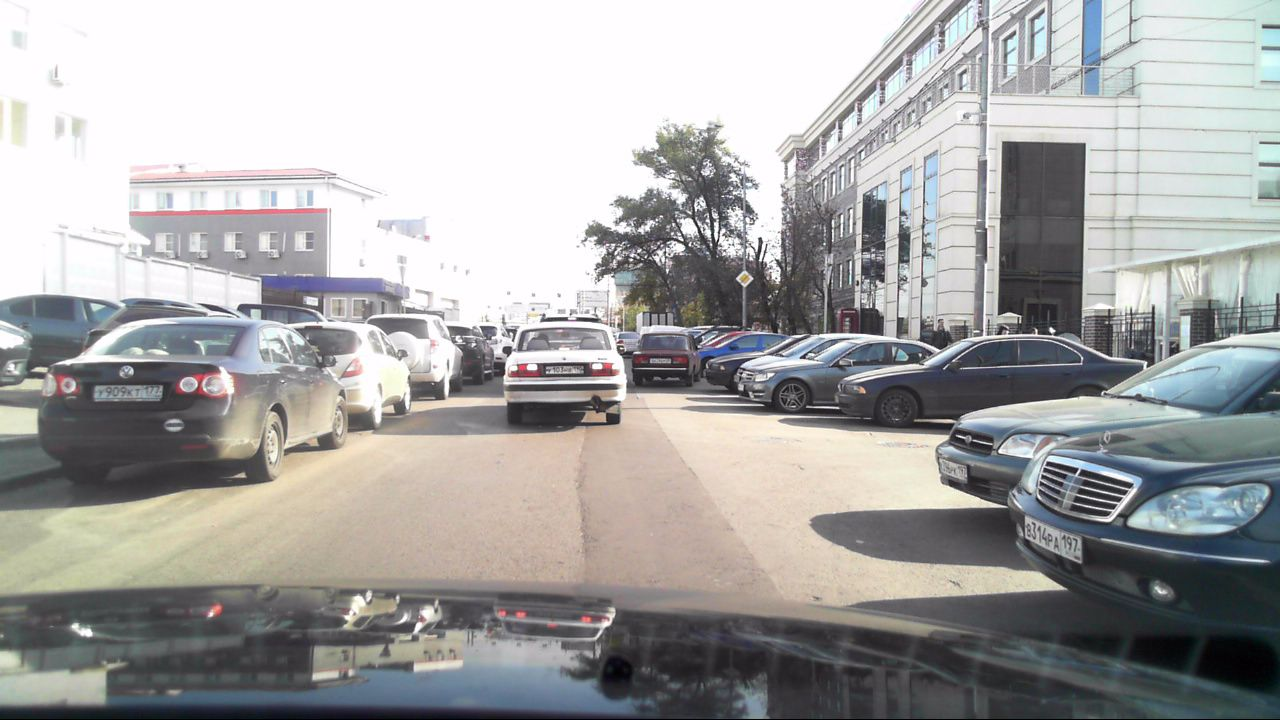main road: (735, 268, 755, 288)
